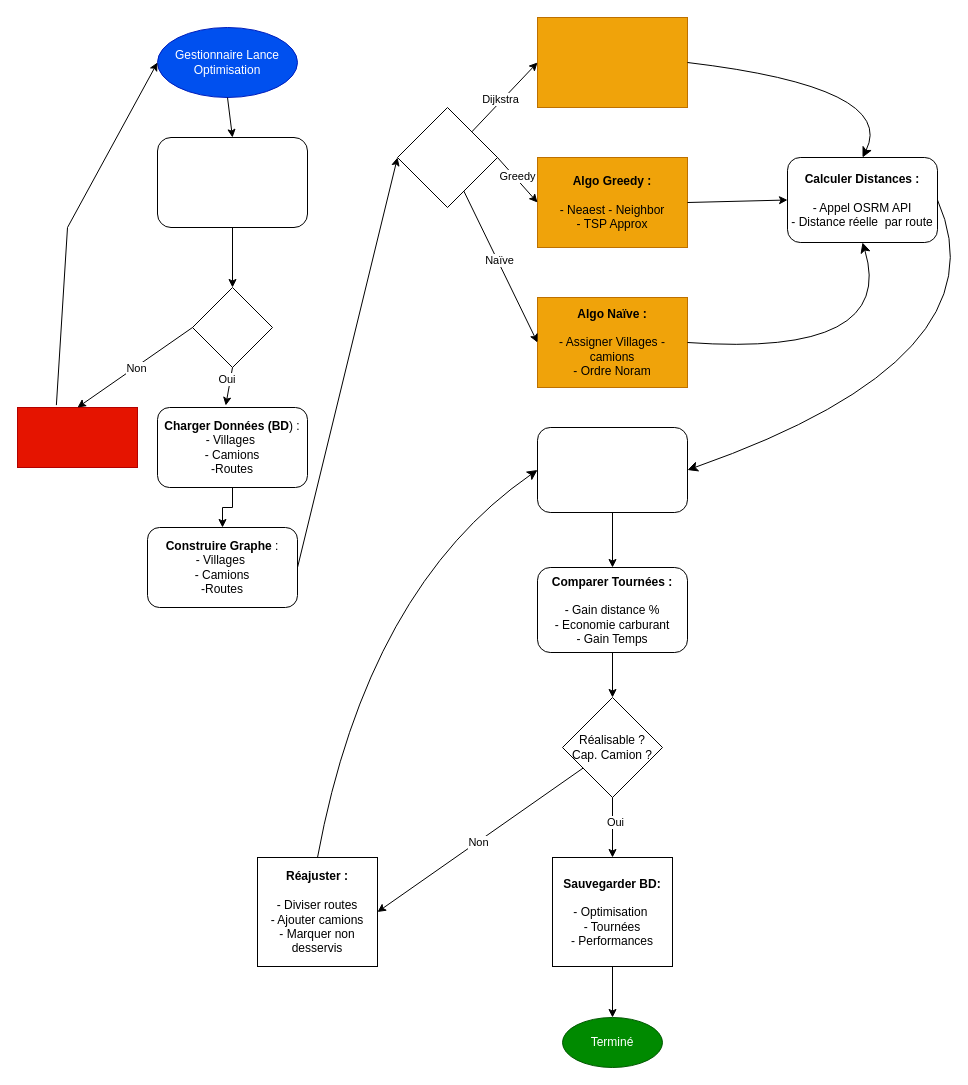
This 968x1085 diagram has some shape labels left out. Here are the shapes that lost their labels. From the top down, the centre of each, then its label:
At point 612,62: "Dijsktra : - Calcul distances optimals - Multi-chemins".
At point 447,157: "Type Optimisation?".
At point 232,182: "Inputs : - Villages séléctionnées - Camions disponibles - Routes bloquées".
At point 232,327: "Données valides ?".
At point 77,437: "Erreur".
At point 612,469: "Calculer Coûts : - Carburant - Temps - Facteur qualité route".
